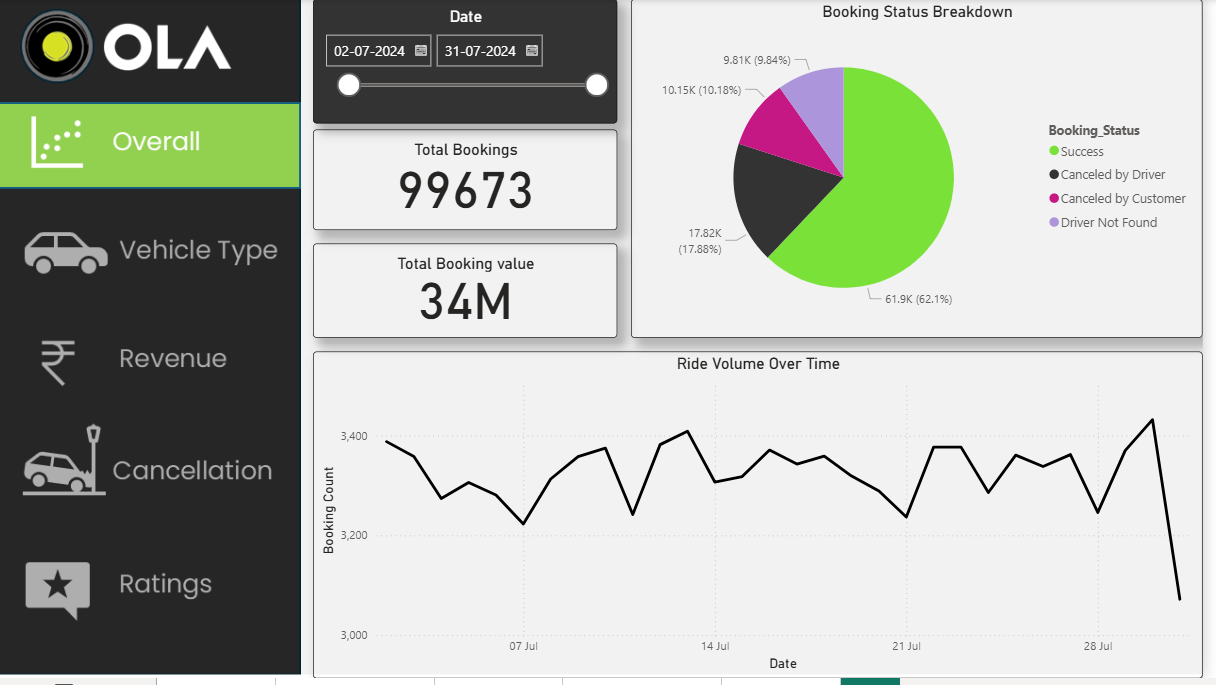

The page's visual inventory and layout, read from the dashboard file:
{"tool":"powerbi","page":{"name":"Overall","canvas":[1280,720],"ordinal":0},"visuals":[{"type":"actionButton","box":[0,210,324.5,98.6],"z":0},{"type":"actionButton","box":[0,345.2,324.5,90.7],"z":1000},{"type":"actionButton","box":[0,447,324.5,101.8],"z":2000},{"type":"actionButton","box":[0,579,324.5,85.9],"z":3000},{"type":"lineChart","title":"Ride Volume Over Time","fields":{"Y":["CountNonNull(July.Booking_ID)"],"Category":["July.Date"]},"box":[337.2,373.8,943.2,346.8],"z":4000},{"type":"pieChart","title":"Booking Status Breakdown","fields":{"Category":["July.Booking_Status"],"Y":["CountNonNull(July.Booking_Status)"]},"box":[674.4,0,606,359.5],"z":5000},{"type":"slicer","title":"Date","fields":{"Values":["July.Date"]},"box":[337.2,0,322.9,132],"z":6000},{"type":"card","title":"Total Bookings","fields":{"Values":["CountNonNull(July.Booking_ID)"]},"box":[337.2,138.4,322.9,106.6],"z":7000},{"type":"card","title":"Total Booking value","fields":{"Values":["Sum(July.Booking_Value)"]},"box":[337.2,259.3,322.9,100.2],"z":8000}]}

Visuals, with their boxes on the page's 1280x720 design canvas (x1, y1, x2, y2). These are canvas units, not pixel positions in the 1216x685 screenshot, which may show the page scaled, cropped or inside an application window:
actionButton: 0,210,324,309
actionButton: 0,345,324,436
actionButton: 0,447,324,549
actionButton: 0,579,324,665
"Ride Volume Over Time" lineChart: 337,374,1280,721
"Booking Status Breakdown" pieChart: 674,0,1280,360
"Date" slicer: 337,0,660,132
"Total Bookings" card: 337,138,660,245
"Total Booking value" card: 337,259,660,360
